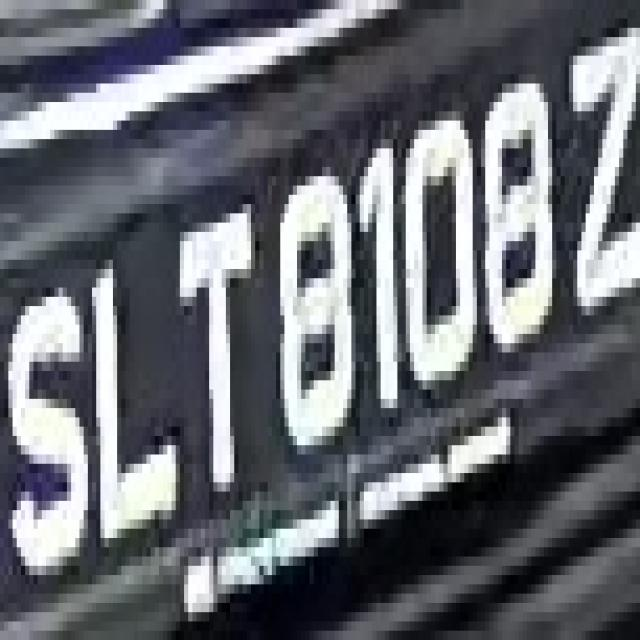0: (410, 84, 481, 408)
1: (355, 102, 410, 482)
8: (272, 148, 360, 436), (477, 74, 556, 353)
L: (92, 250, 180, 566)
S: (4, 260, 96, 594)
T: (172, 195, 264, 501)
Z: (564, 18, 640, 343)
